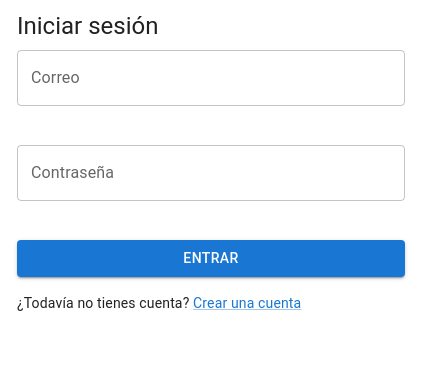
Test: SignInPage › enseña el error del backend si las credenciales no cuadran
Type "persona@ejemplo.com" into the field labelled "Correo".
click(211, 78); type("persona@ejemplo.com")  # box top-left (17, 50), bottom-right (405, 106)
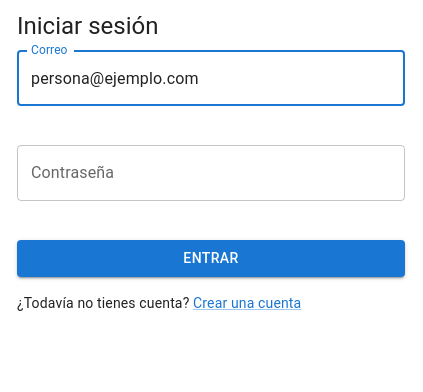
Type "BrumaCafe2026!" into the password field labelled "Contraseña".
click(211, 173); type("BrumaCafe2026!")  # box top-left (17, 145), bottom-right (405, 201)
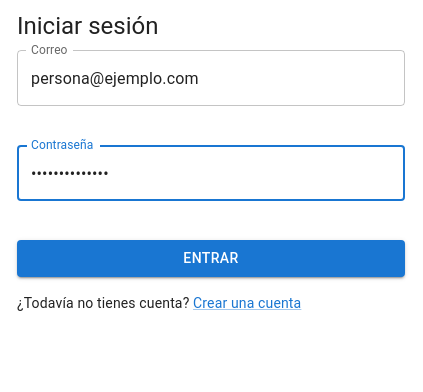
Click the button "Entrar".
click(211, 258)  # box top-left (17, 240), bottom-right (405, 277)
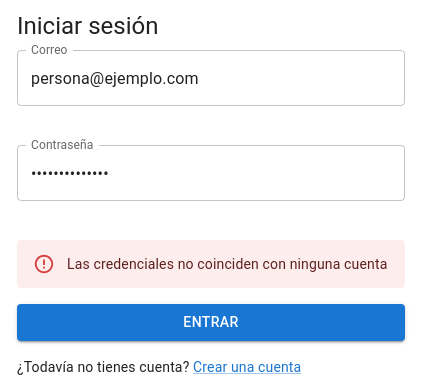
Now the text "Las credenciales no coinciden con ninguna cuenta" is shown, box top-left (67, 256), bottom-right (387, 272)
